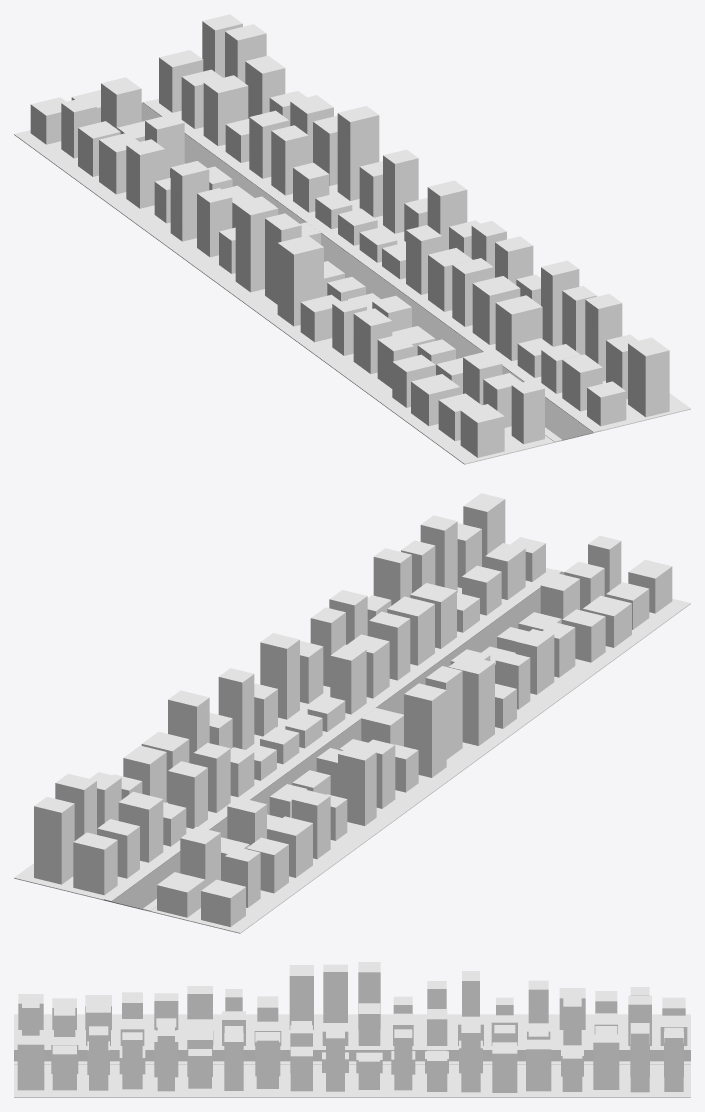
File: city.obj
3 renders of one model, top to bottom at view 1: azimuth 30°, elevation 25°; view 2: azimuth 150°, elevation 25°; view 3: azimuth 270°, elevation 25°, orthographic. The views are drawn at different scales.
Visible parts, largest first — view 1: Road; view 2: Road; view 3: Road.
Boxes of the visible parts, bbox=[...] form: Road: bbox=[14, 14, 690, 464]; Road: bbox=[14, 493, 690, 933]; Road: bbox=[14, 962, 690, 1097].
Bounding box in the file's own units: 116 × 39.05 × 400.
Materials: 1 (1 with a texture image).
